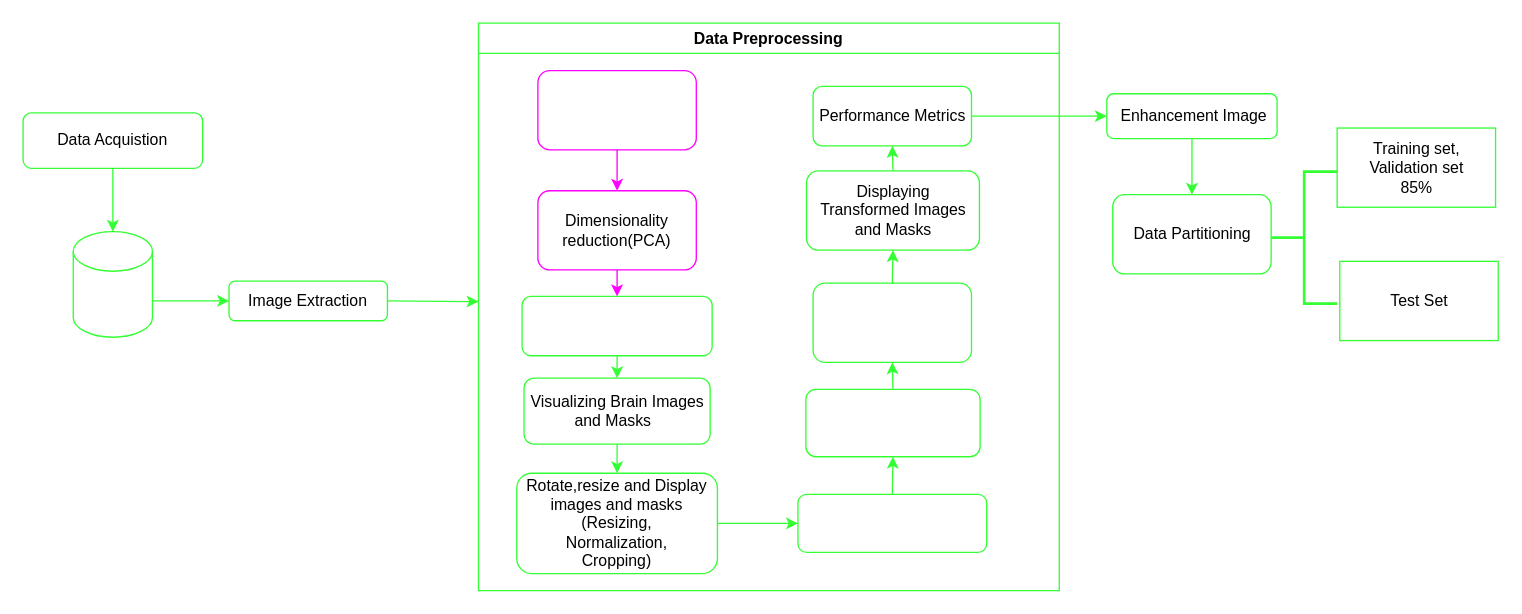
This 1522x614 diagram has some shape labels left out. Here are the shapes that lost their labels. From the top down, the centre of each, then its label:
At [616,109]: "Identify and remove redundant data".
At [112,283]: "Dataset".
At [616,325]: "Load and Extract MRI images and masks".
At [892,322]: "Displaying Test Images and Masks".
At [892,422]: "Loading Test Images and Masks".
At [892,522]: "Segment Classes and Volume Configuration ( Channel extraction)".
